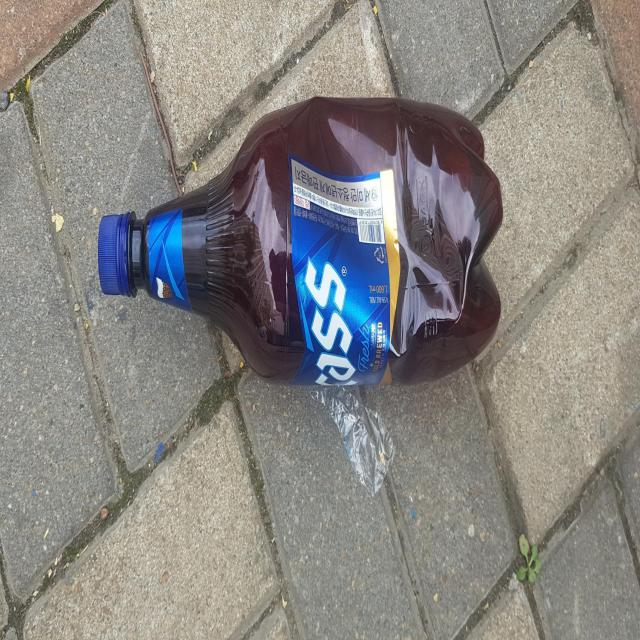plastic: (97, 96, 503, 385)
